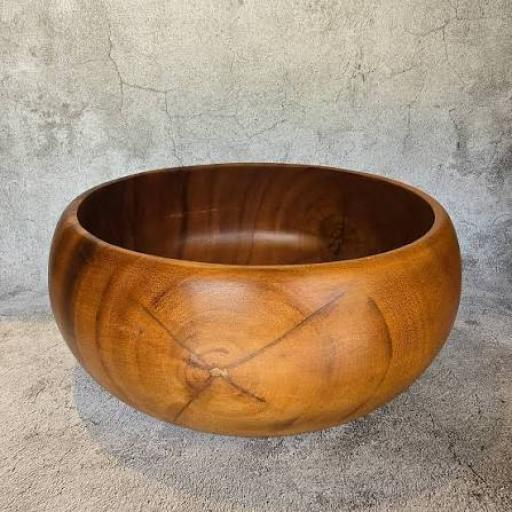Bowl: (48, 163, 459, 436)
